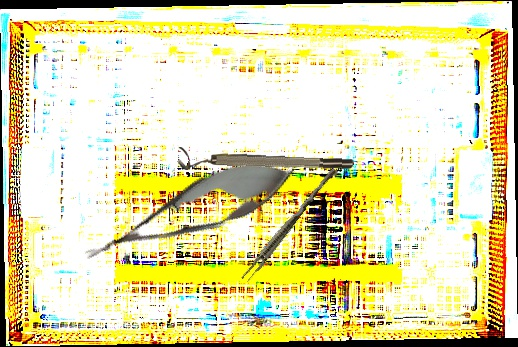Fixation Ring: (177, 146, 354, 180)
Micro Scissor: (73, 141, 305, 283)
Tissue Forceps: (240, 164, 339, 285)
